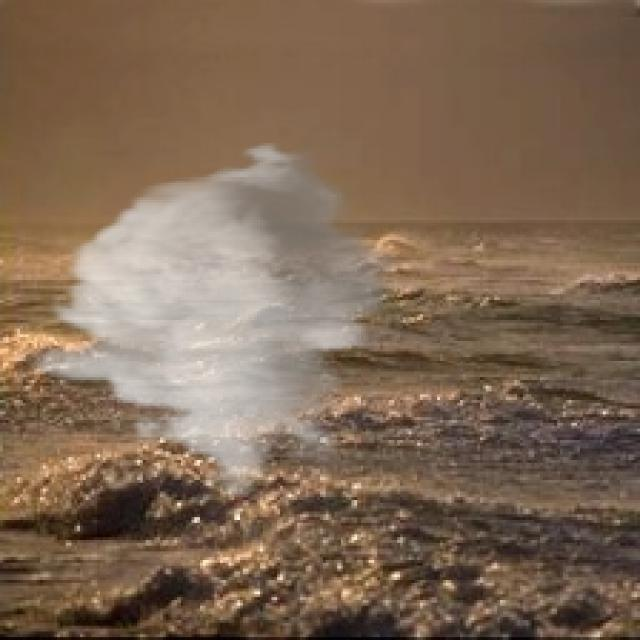smoke: (23, 140, 411, 500)
